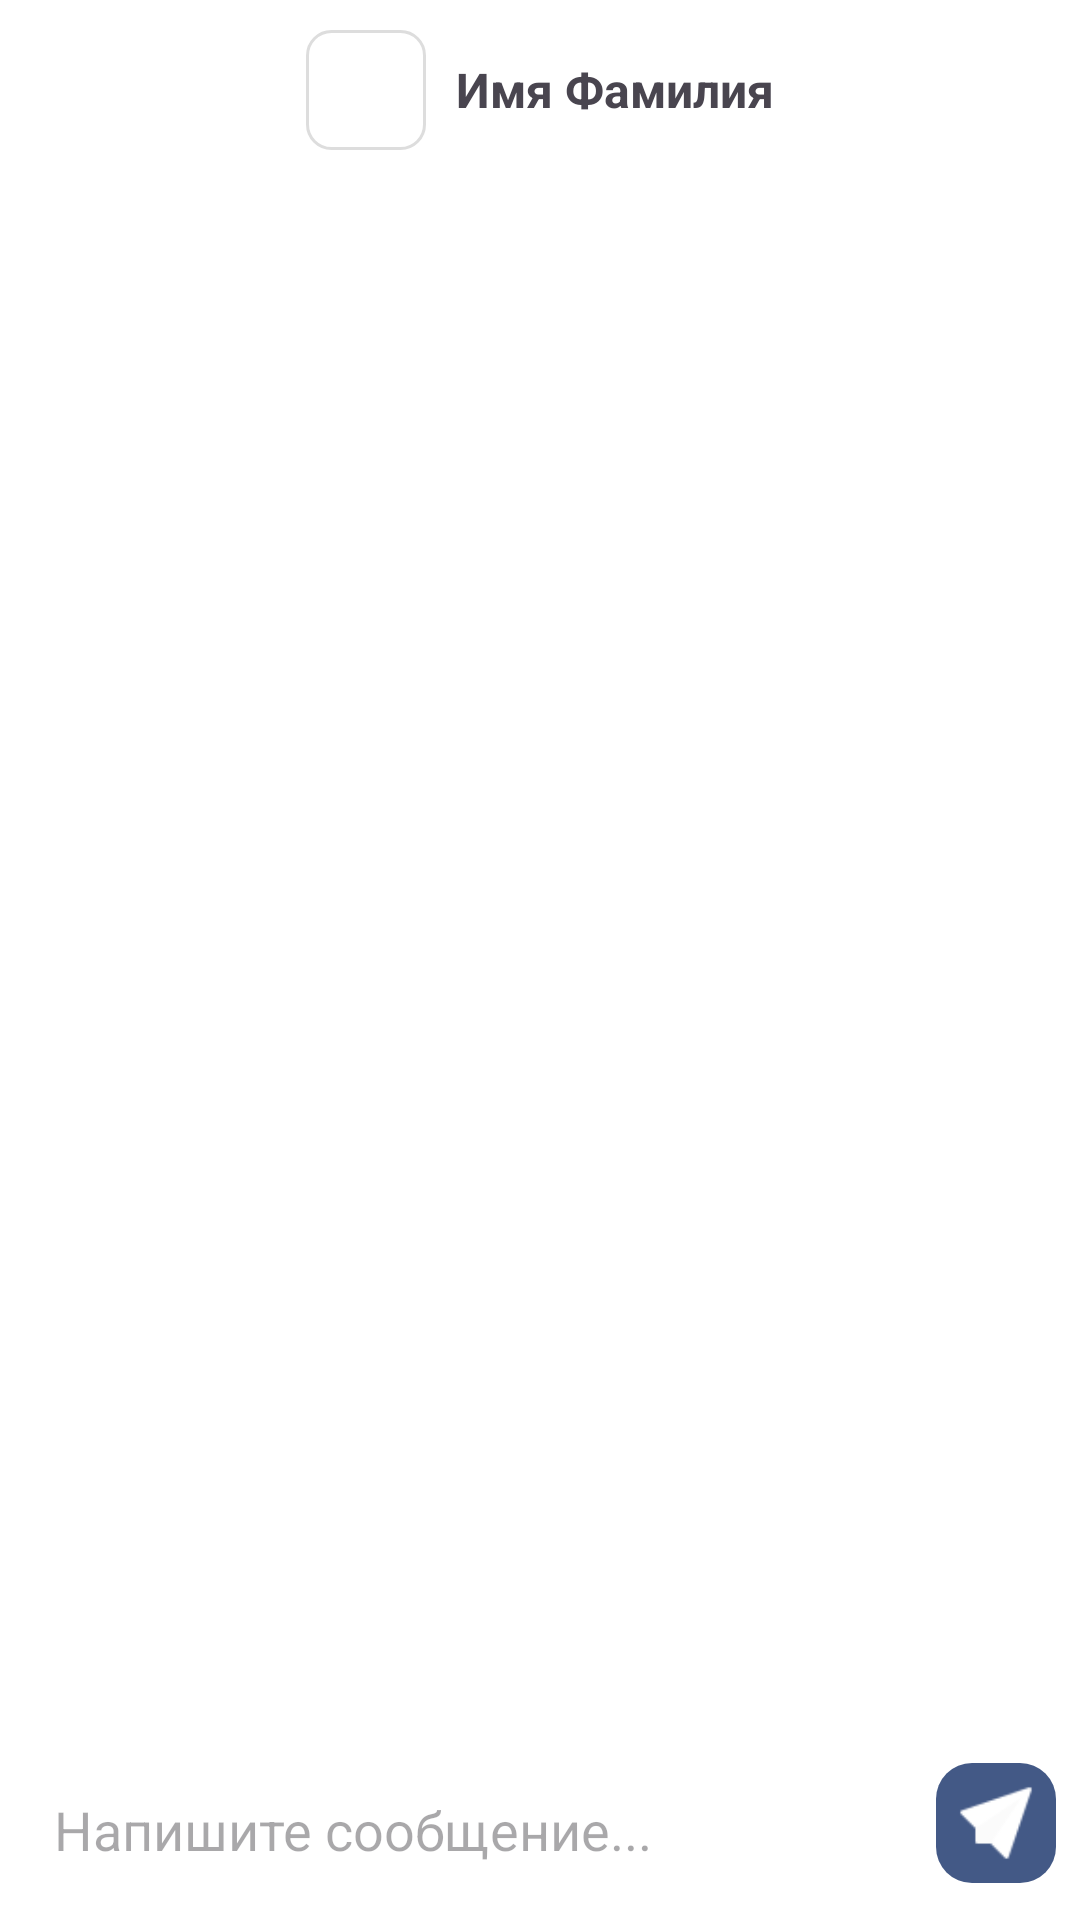

Screen size 1080*1920. Icon name, then its box in pixels as (x1, y1, x2, y2):
Отправить сообщение: (936, 1763, 1056, 1883)
